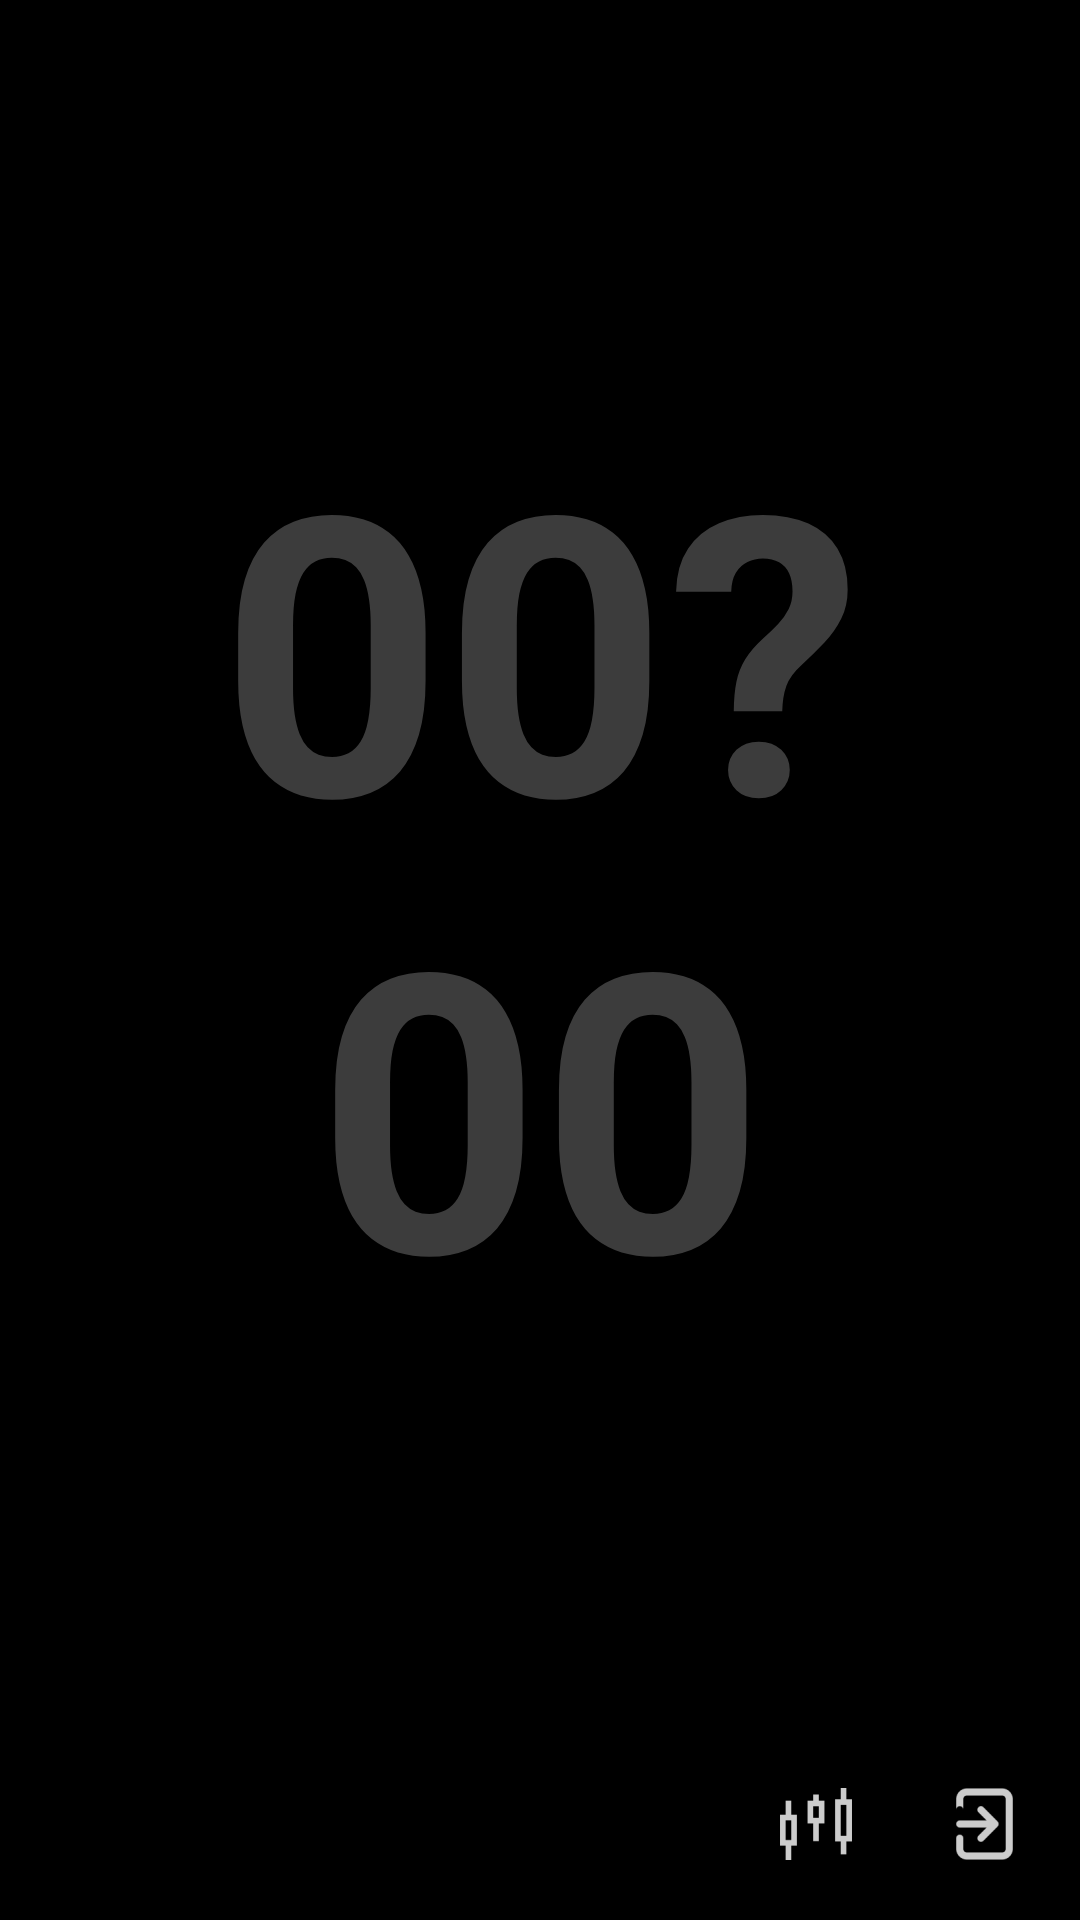

Named icons in this screenshot (1080×1920) and their bounding boxes, (x1=x1, y1=y1, x2=x2, y2=y2):
Exit: (x1=956, y1=1788, x2=1013, y2=1860)
Preferences: (x1=780, y1=1788, x2=852, y2=1860)
